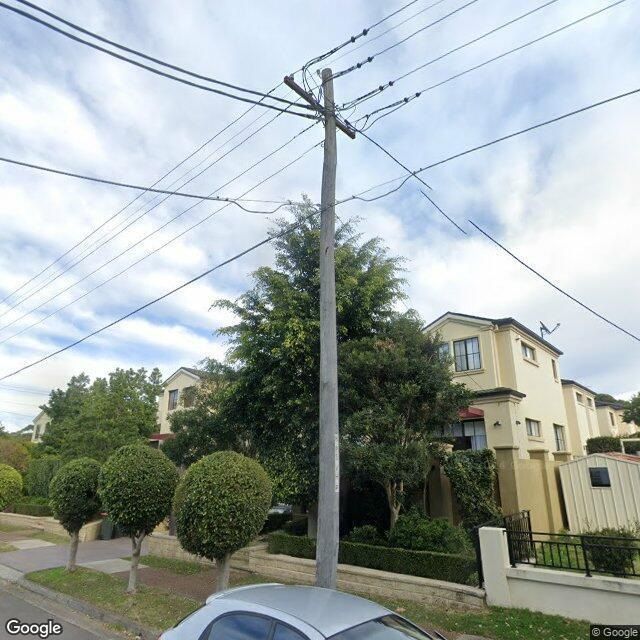crossarm: (284, 77, 356, 141)
timber-pole: (315, 68, 340, 590)
